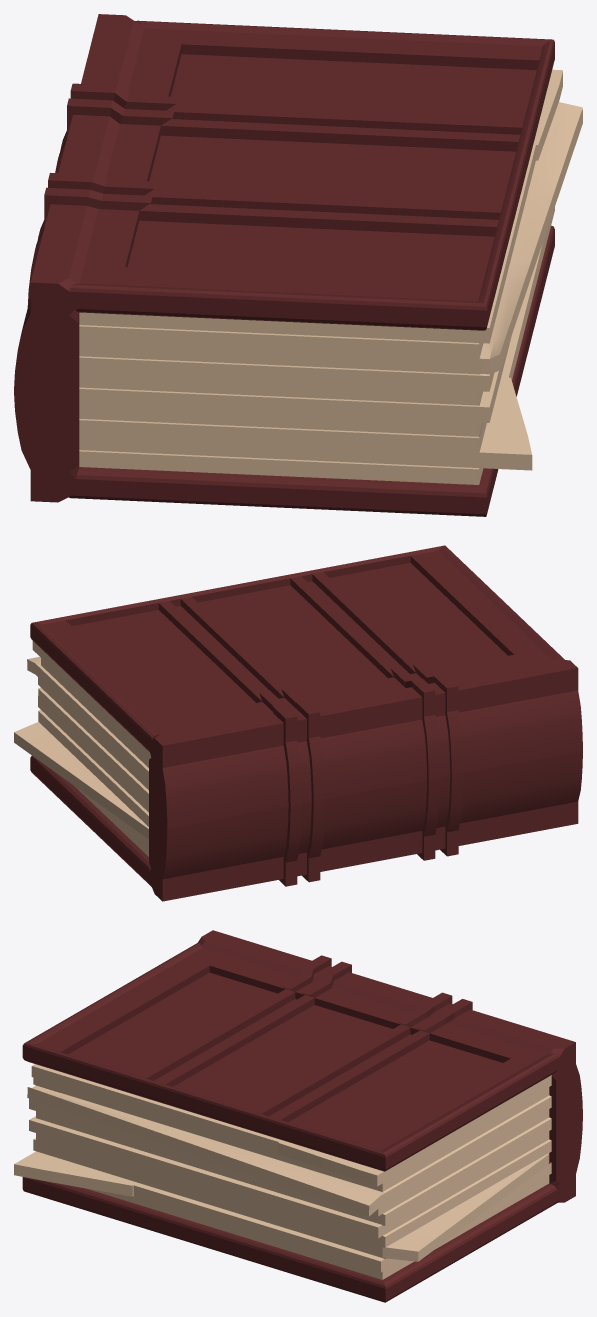
Rendered from Tome1.fbx.
3 views of the same model, one above another, from view 1: azimuth 30°, elevation 25°; view 2: azimuth 150°, elevation 25°; view 3: azimuth 270°, elevation 25° (orthographic). The views are drawn at different scales.
Visible parts, largest first — view 1: Tome1; view 2: Tome1; view 3: Tome1.
Boxes of the visible parts, <box> form: Tome1: <box>14,14,582,516</box>; Tome1: <box>14,545,582,901</box>; Tome1: <box>14,930,582,1302</box>.
Bounding box in the file's own units: 41.21 × 13.77 × 42.76.
